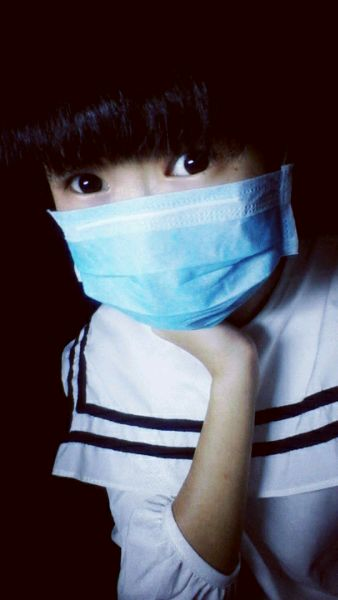face_mask: (51, 87, 277, 328)
